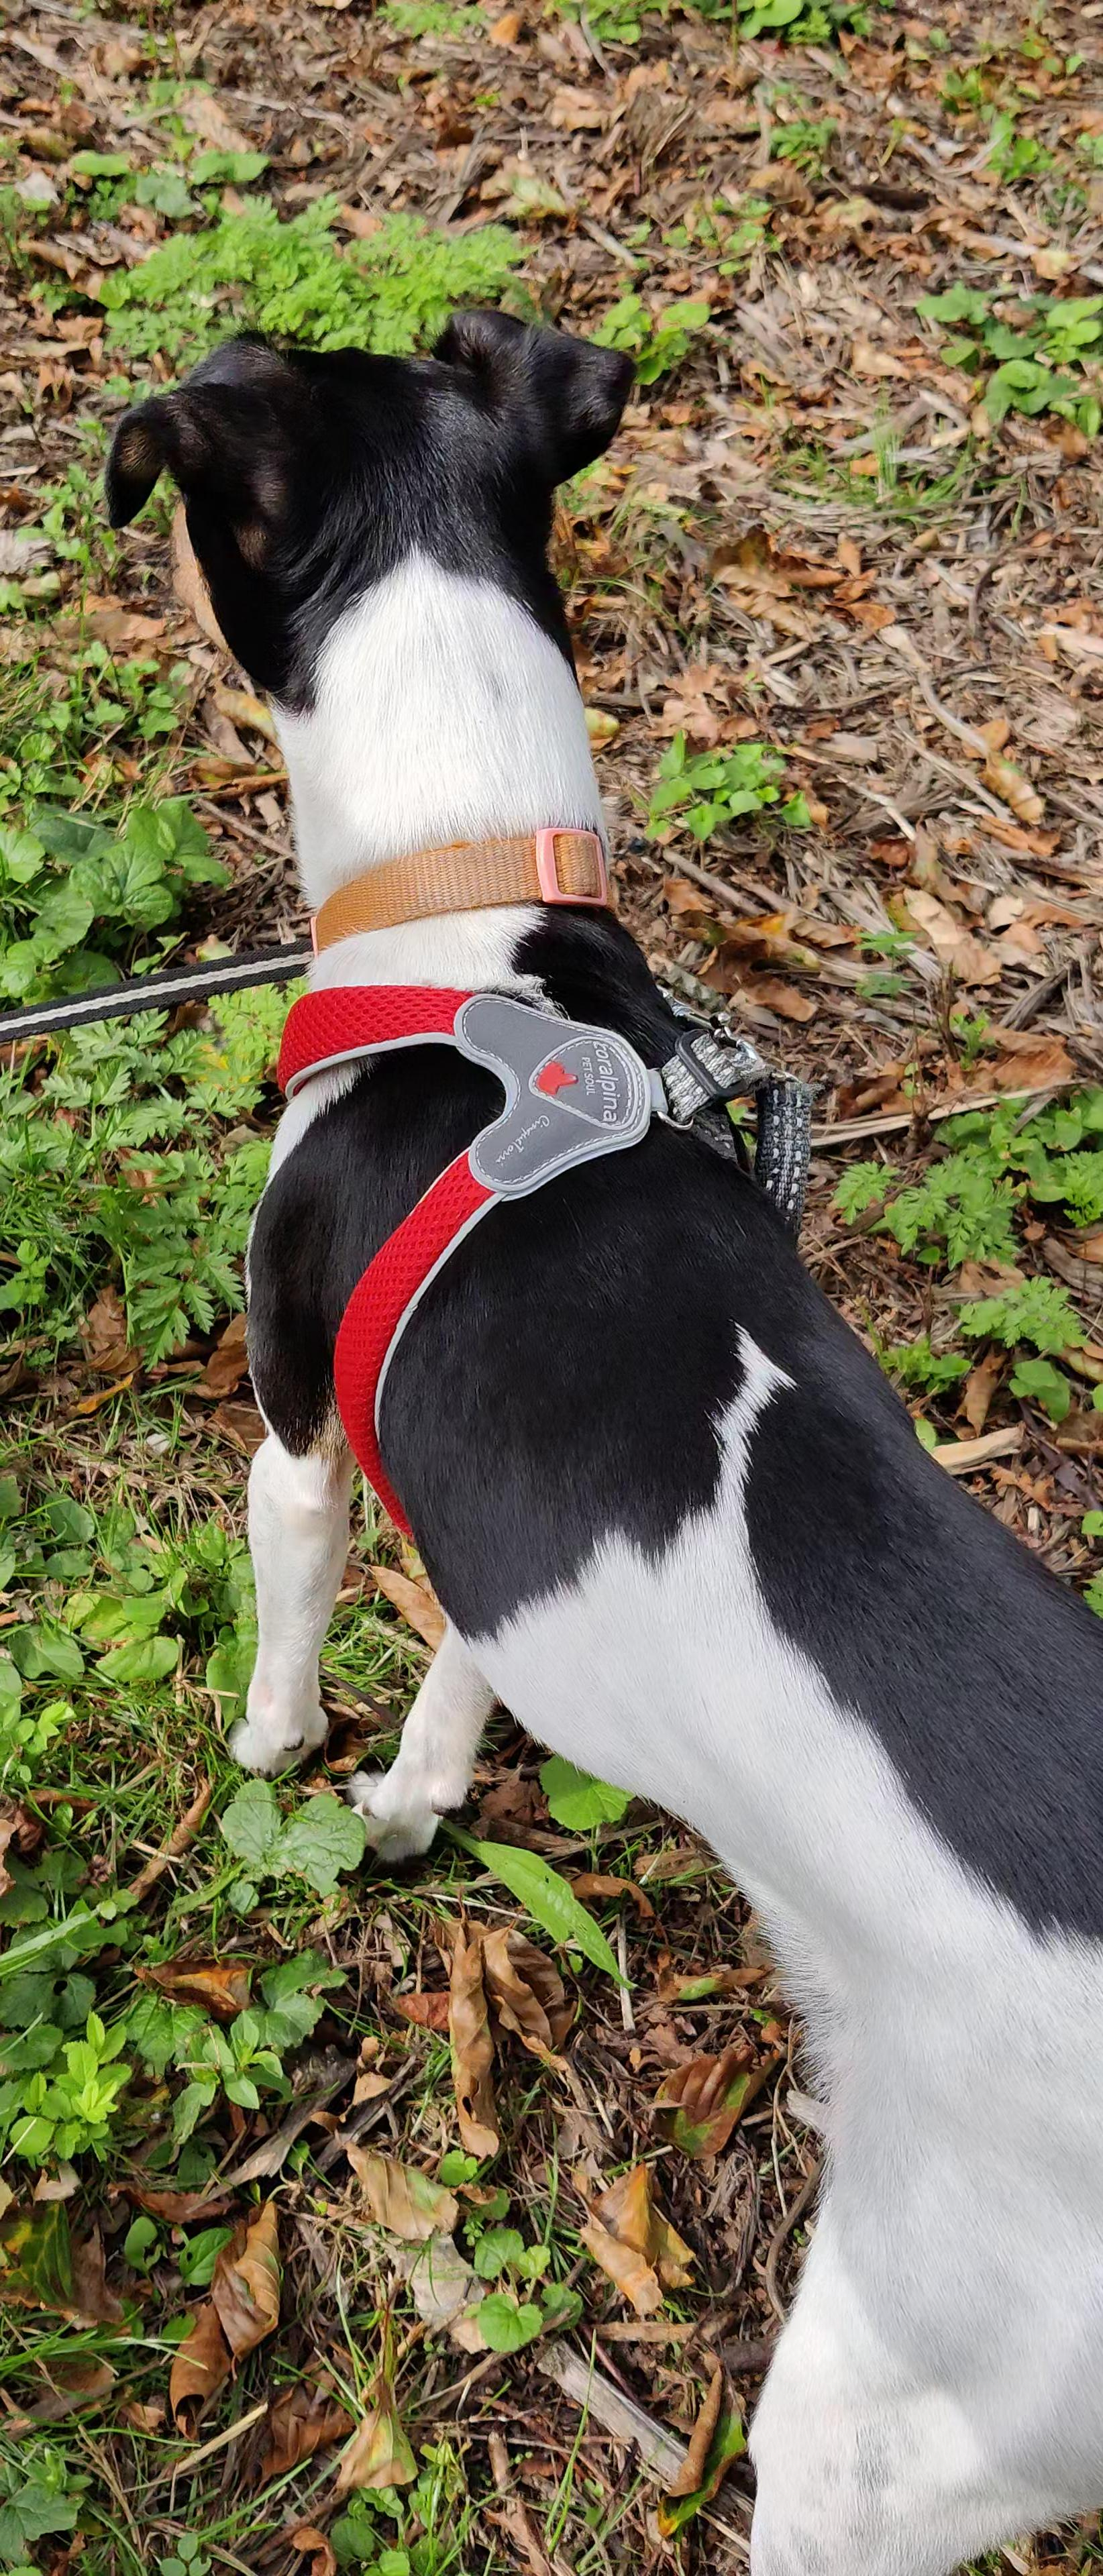Dog: (71, 268, 1103, 2576)
